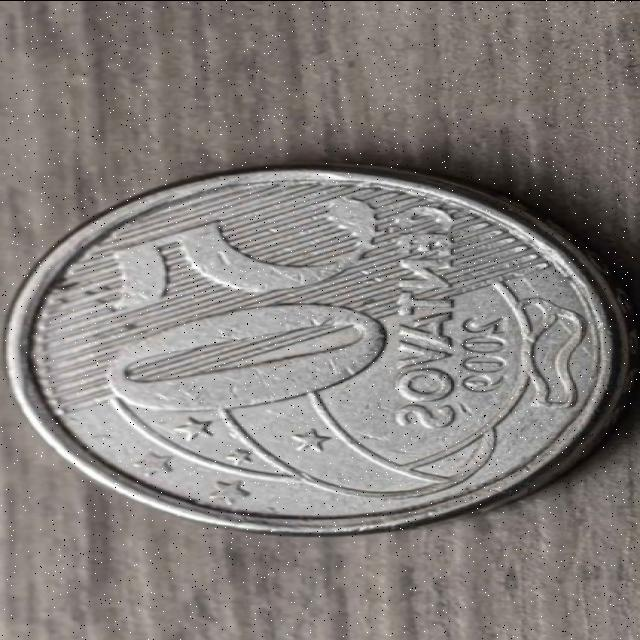50 cent: (6, 166, 640, 538)
